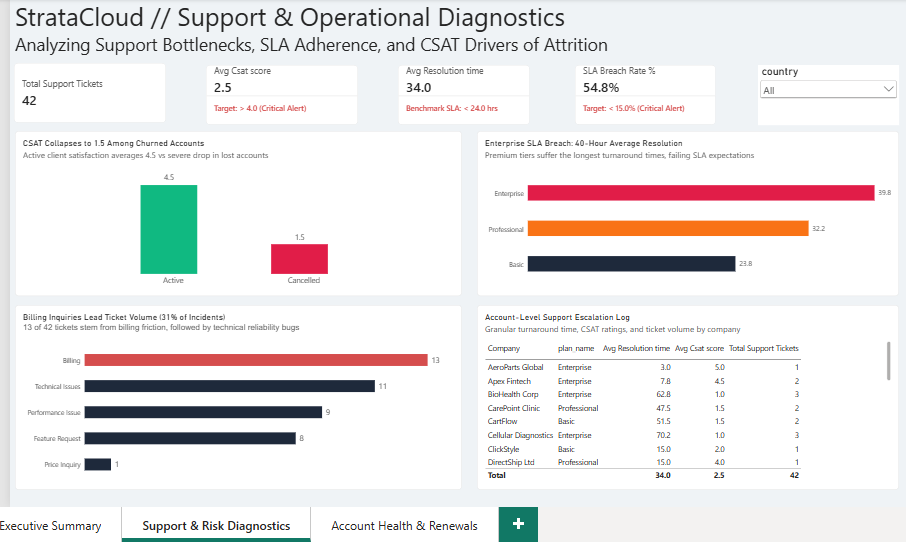

This screenshot's page, from the dashboard's own definition file:
{"tool":"powerbi","page":{"name":"Support & Risk Diagnostics","canvas":[1920,1080],"ordinal":1},"visuals":[{"type":"textbox","box":[10,0,280,280],"z":0},{"type":"cardVisual","fields":{"Data":["Measure.Avg Csat score"]},"box":[416.7,140.3,323.1,127.6],"z":1000},{"type":"textbox","box":[10.6,0,1909.1,140.3],"z":2000},{"type":"cardVisual","fields":{"Data":["Measure.Avg Resolution time"]},"box":[824.9,140.3,280.6,127.6],"z":3000},{"type":"cardVisual","fields":{"Data":["Measure.Total Support Tickets"]},"box":[8.5,136.1,323.1,127.6],"z":4000},{"type":"clusteredColumnChart","title":"CSAT Collapses to 1.5 Among Churned Accounts","fields":{"Category":["vw_customer_retention_summary.status"],"Y":["Measure.Avg Csat score"]},"box":[10.6,280.6,950.3,350.8],"z":5000},{"type":"clusteredBarChart","title":"Enterprise SLA Breach: 40-Hour Average Resolution","fields":{"Category":["vw_customer_retention_summary.plan_name"],"Y":["Measure.Avg Resolution time"]},"box":[992.8,280.6,897.2,350.8],"z":6000},{"type":"clusteredBarChart","title":"Billing Inquiries Lead Ticket Volume (31% of Incidents)","fields":{"Category":["vw_support_ticket_details.category"],"Y":["Measure.Total Support Tickets"]},"box":[10.6,650.6,950.3,393.3],"z":7000},{"type":"tableEx","title":"Account-Level Support Escalation Log","fields":{"Values":["vw_support_ticket_details.company_name","vw_support_ticket_details.plan_name","Measure.Avg Resolution time","Measure.Avg Csat score","Measure.Total Support Tickets"]},"box":[992.8,650.6,897.2,393.3],"z":8000},{"type":"slicer","fields":{"Values":["vw_customer_retention_summary.country"]},"box":[1590.2,140.3,299.8,127.6],"z":9000},{"type":"cardVisual","fields":{"Data":["Measure.SLA Breach Rate %"]},"box":[1201.2,140.3,299.8,127.6],"z":10000}]}

Visuals, with their boxes on the page's 1920x1080 design canvas (x1, y1, x2, y2). These are canvas units, not pixel positions in the 906x542 screenshot, which may show the page scaled, cropped or inside an application window:
textbox: (10,0,290,280)
cardVisual - Measure.Avg Csat score: (417,140,740,268)
textbox: (11,0,1920,140)
cardVisual - Measure.Avg Resolution time: (825,140,1106,268)
cardVisual - Measure.Total Support Tickets: (8,136,332,264)
"CSAT Collapses to 1.5 Among Churned Accounts" clusteredColumnChart: (11,281,961,631)
"Enterprise SLA Breach: 40-Hour Average Resolution" clusteredBarChart: (993,281,1890,631)
"Billing Inquiries Lead Ticket Volume (31% of Incidents)" clusteredBarChart: (11,651,961,1044)
"Account-Level Support Escalation Log" tableEx: (993,651,1890,1044)
slicer - vw_customer_retention_summary.country: (1590,140,1890,268)
cardVisual - Measure.SLA Breach Rate %: (1201,140,1501,268)
